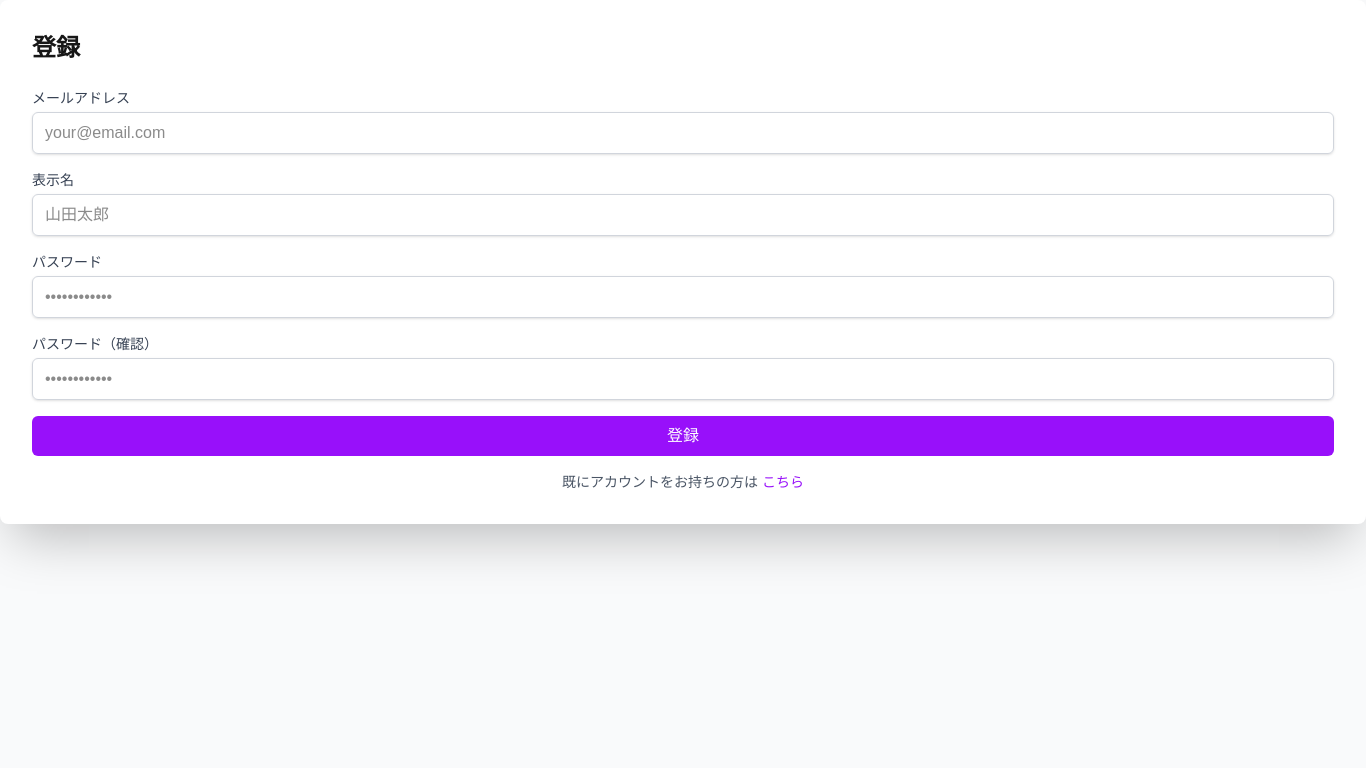
Scenario: RegisterPageClient › バリデーション › 表示名が空の場合エラーが表示される
In the field labelled "メールアドレス": (683, 133) [32,112,1334,154], type "test@example.com"
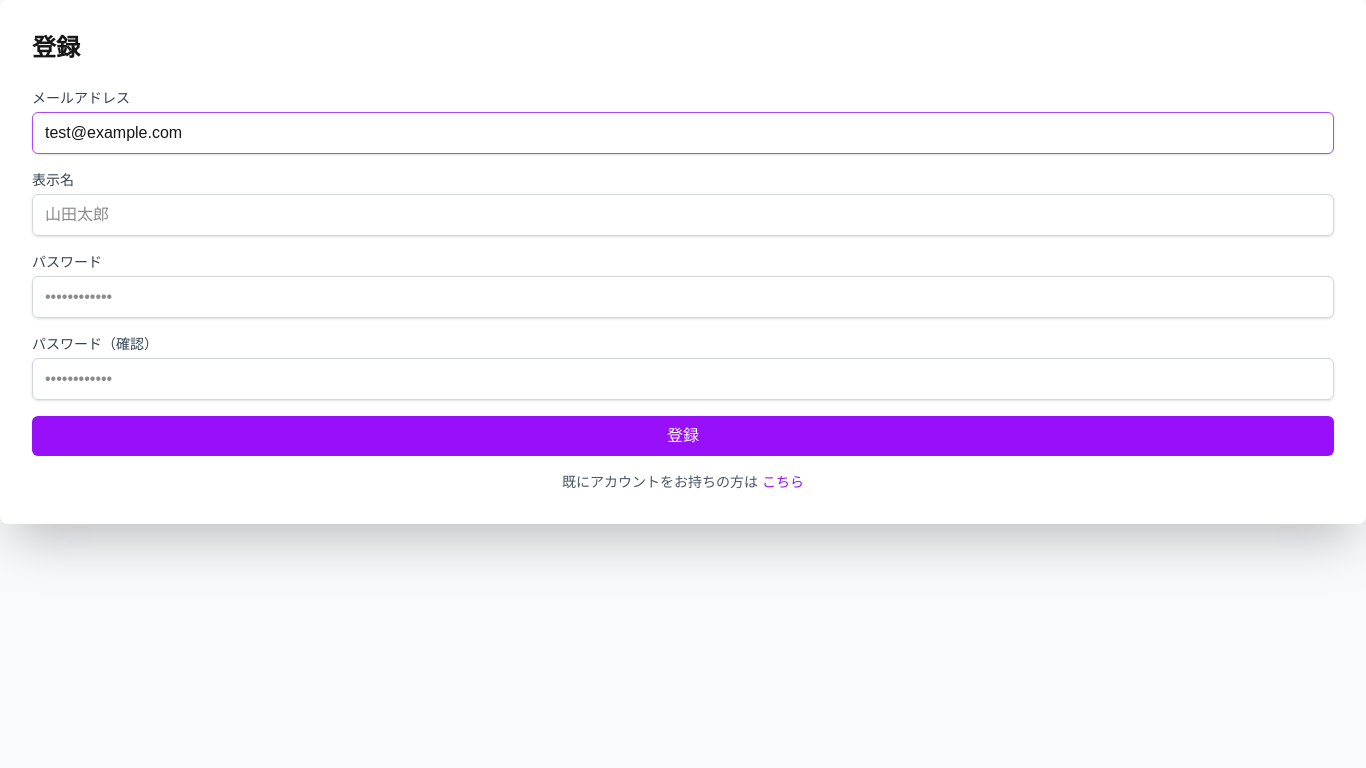
In the password field labelled "パスワード": (683, 297) [32,276,1334,318], type "password123"
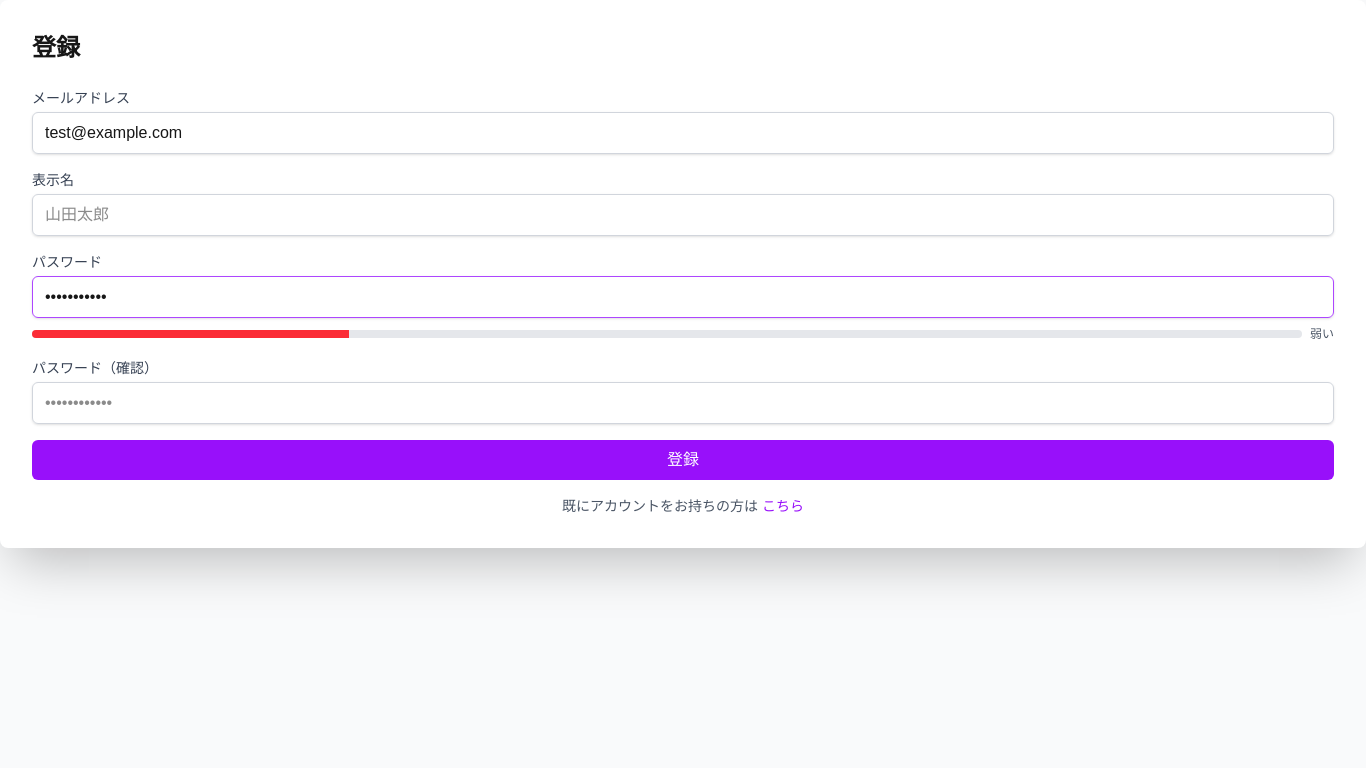
In the password field labelled "パスワード（確認）": (683, 403) [32,382,1334,424], type "password123"
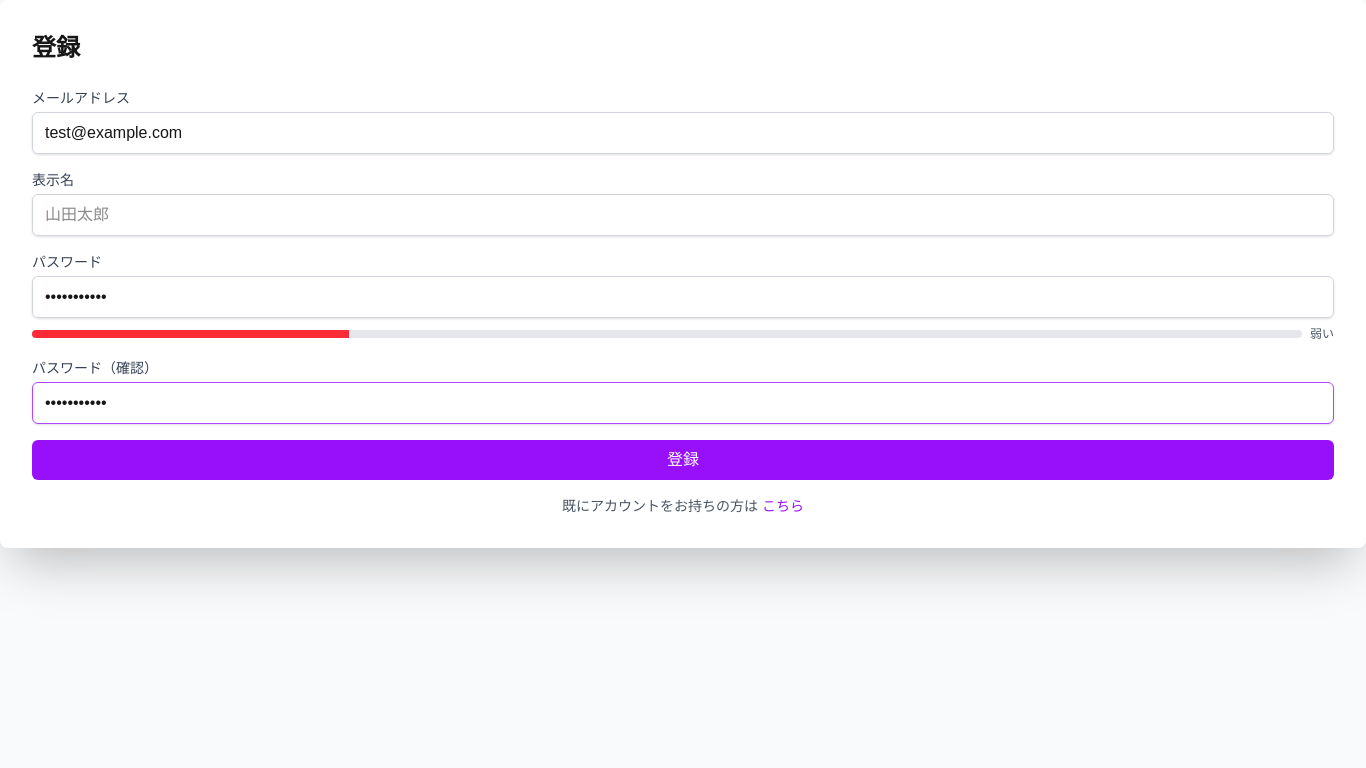
Click the button "登録": (683, 460) [32,440,1334,480]
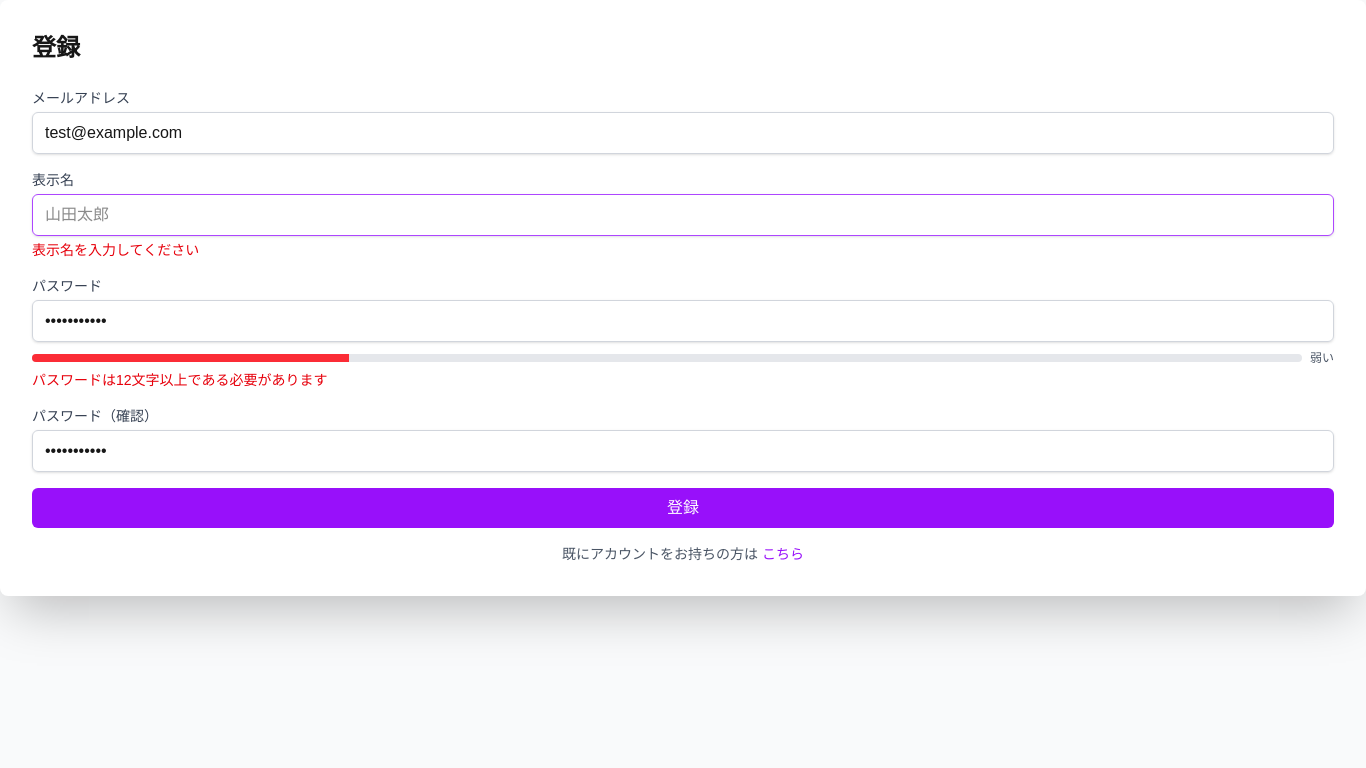
Check: the text "表示名を入力してください" is shown, box [32,242,199,258]
